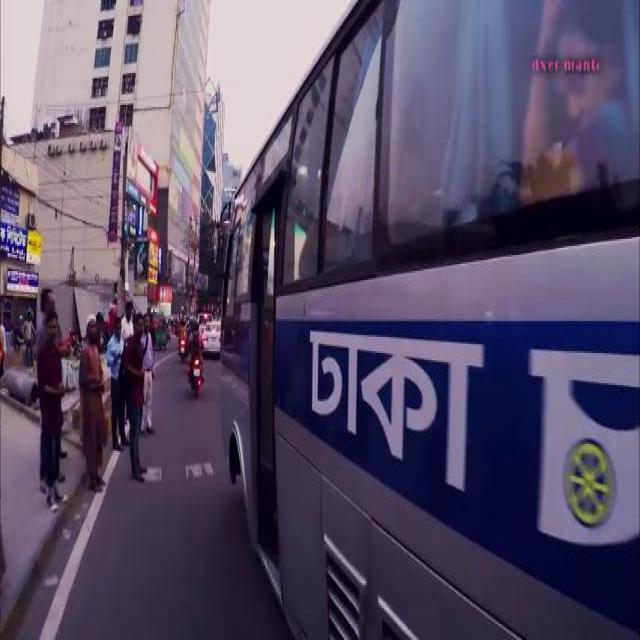bus: (215, 0, 638, 636)
car: (201, 319, 220, 348)
motorcycle: (186, 346, 203, 392), (148, 310, 167, 346), (177, 326, 185, 357)
